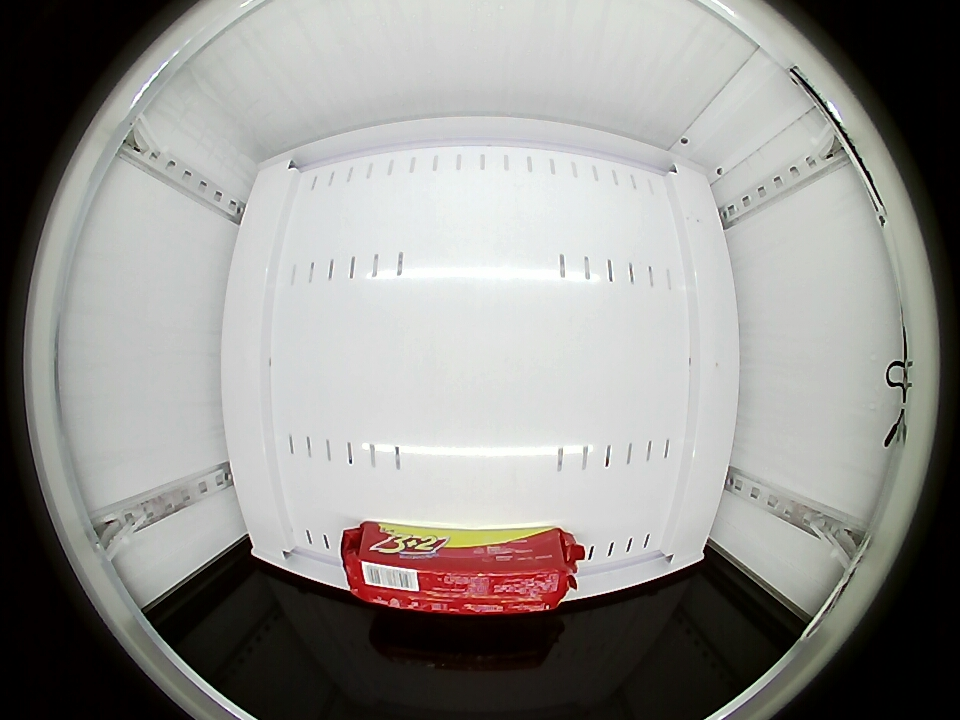3jia2: (344, 525, 571, 616)
